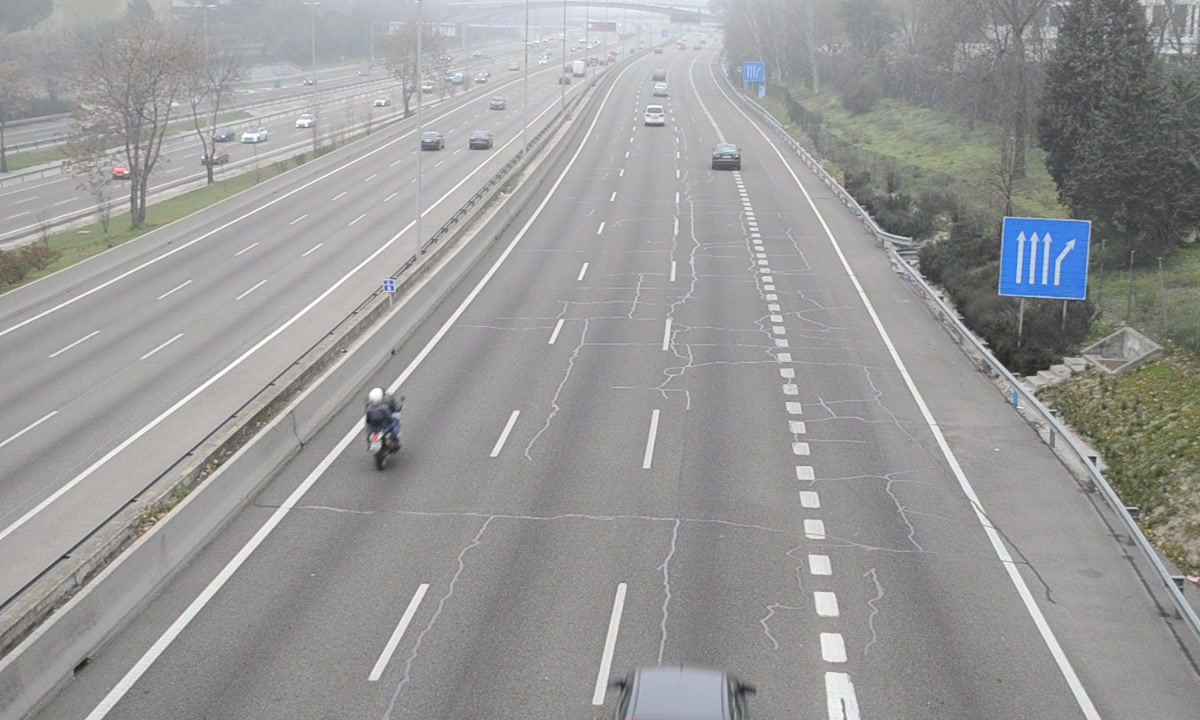car: (710, 143, 741, 170), (643, 106, 667, 128)
motorcycle: (362, 388, 403, 470)
